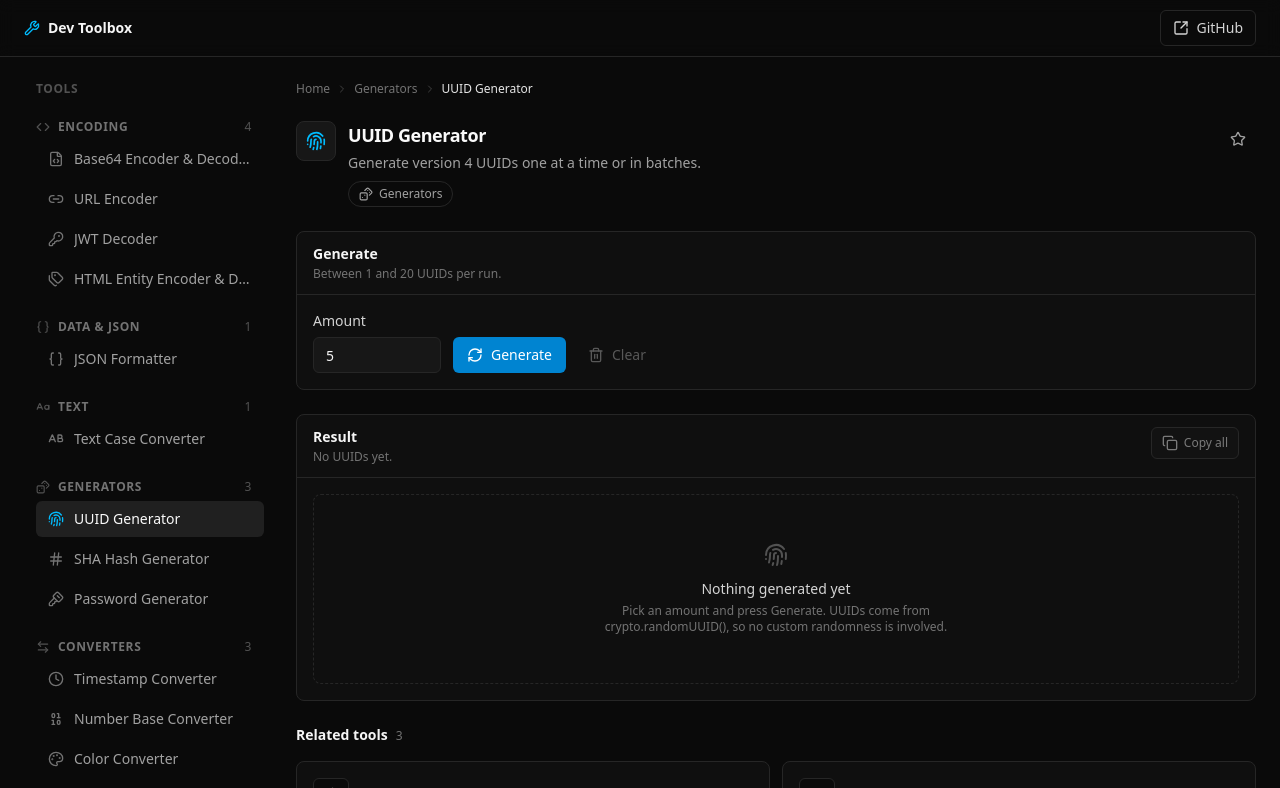
UUID Generator › reports when crypto.randomUUID is unavailable
Expected: the heading "UUID Generator" is shown, [348,123,486,147]
Click the button "Generate".
click(510, 355)  # box [453,337,566,373]
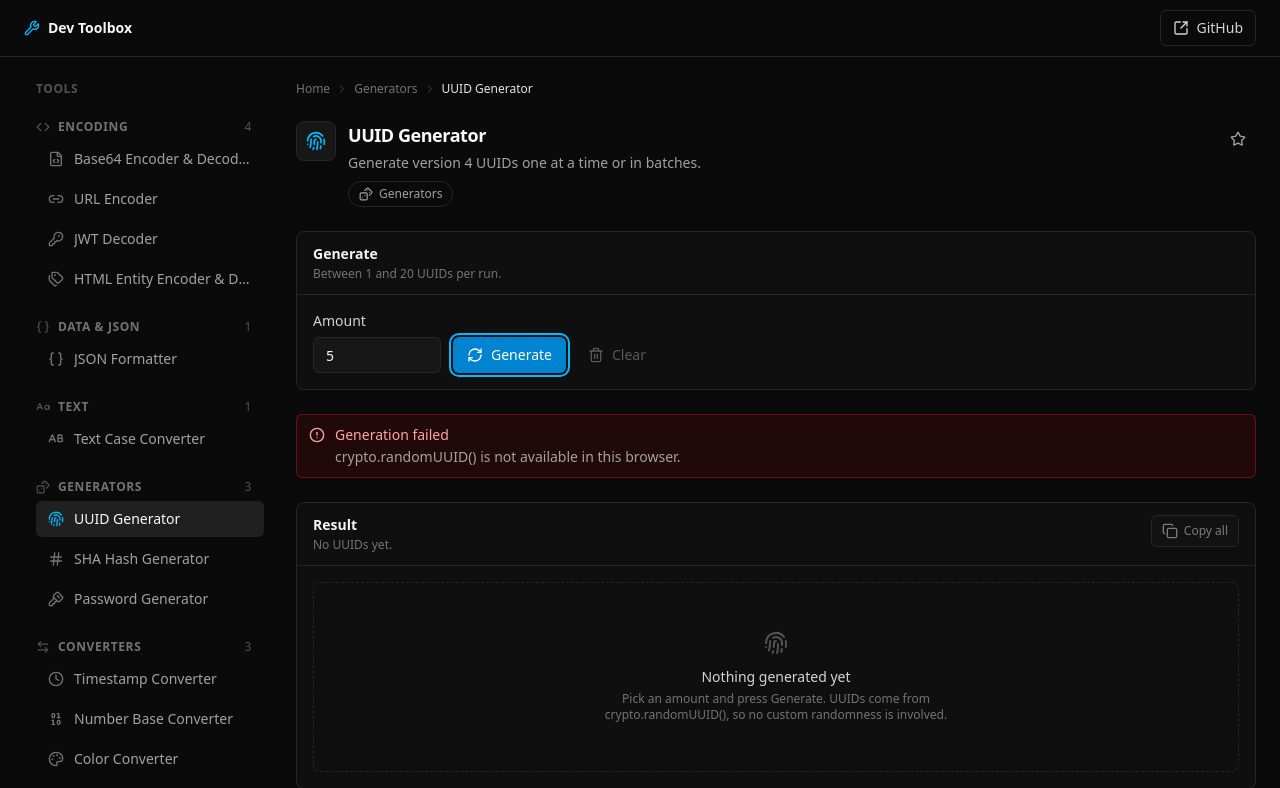
Result: the text "Generation failed" is shown at [335,425,449,444]
Result: the text "crypto.randomUUID() is not available in this browser." is shown at [335,447,680,466]
